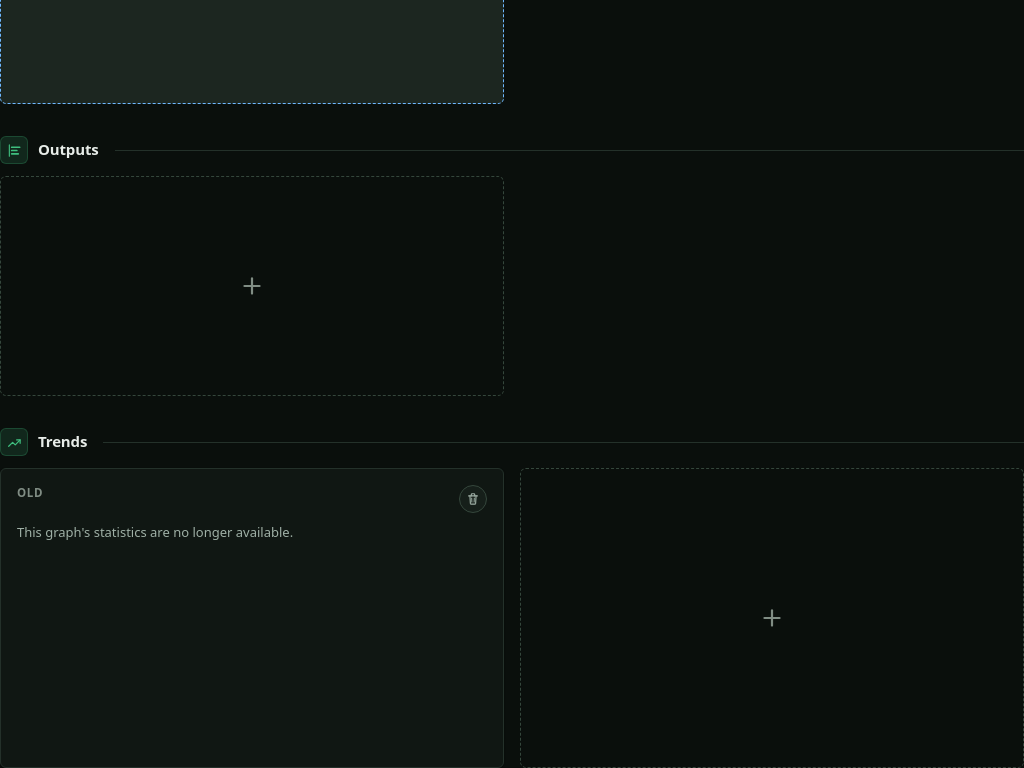
Test case: PlayerComparison › shows a card whose statistic this version doesn't have as unavailable, still removable
(page scrolled)
Check: the text "This graph's statistics are no longer available." is shown, box [17,523,293,541]
Click the button named "Remove graph".
click(473, 499)  # box [459,485,487,513]
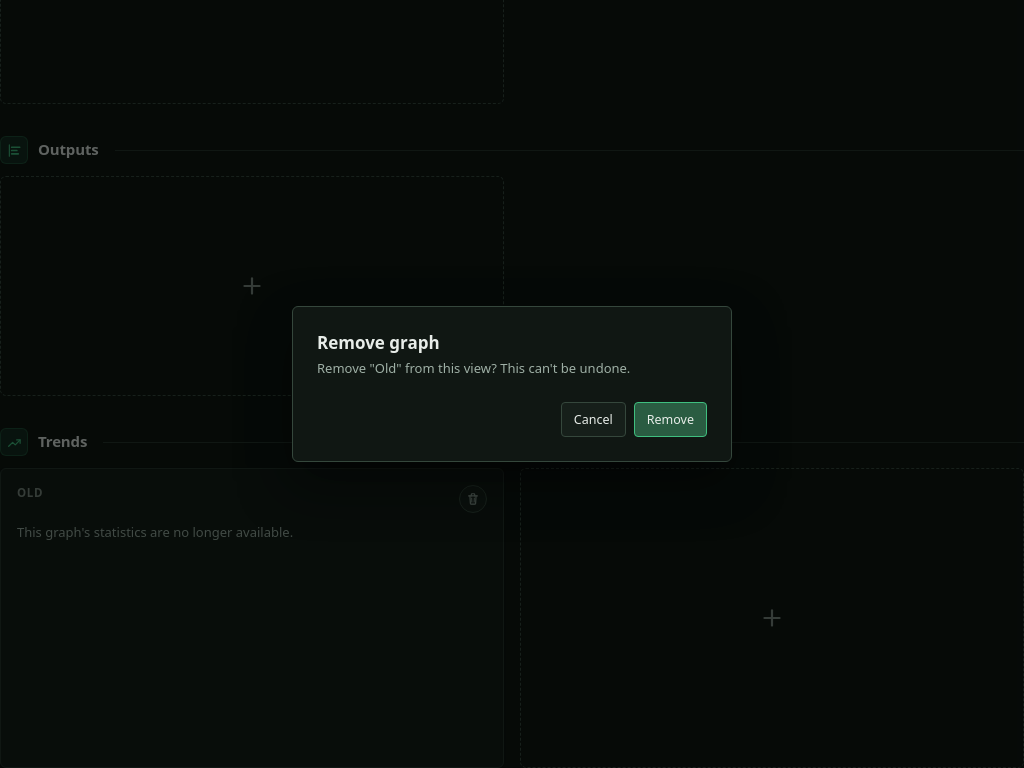
Check: the text "Old" is shown, box [17,485,43,502]
Check: the text "Remove \"Old\" from this view? This can't be undone." is shown, box [317,359,630,377]
Click the button "Remove".
click(670, 420)  # box [634,402,707,437]
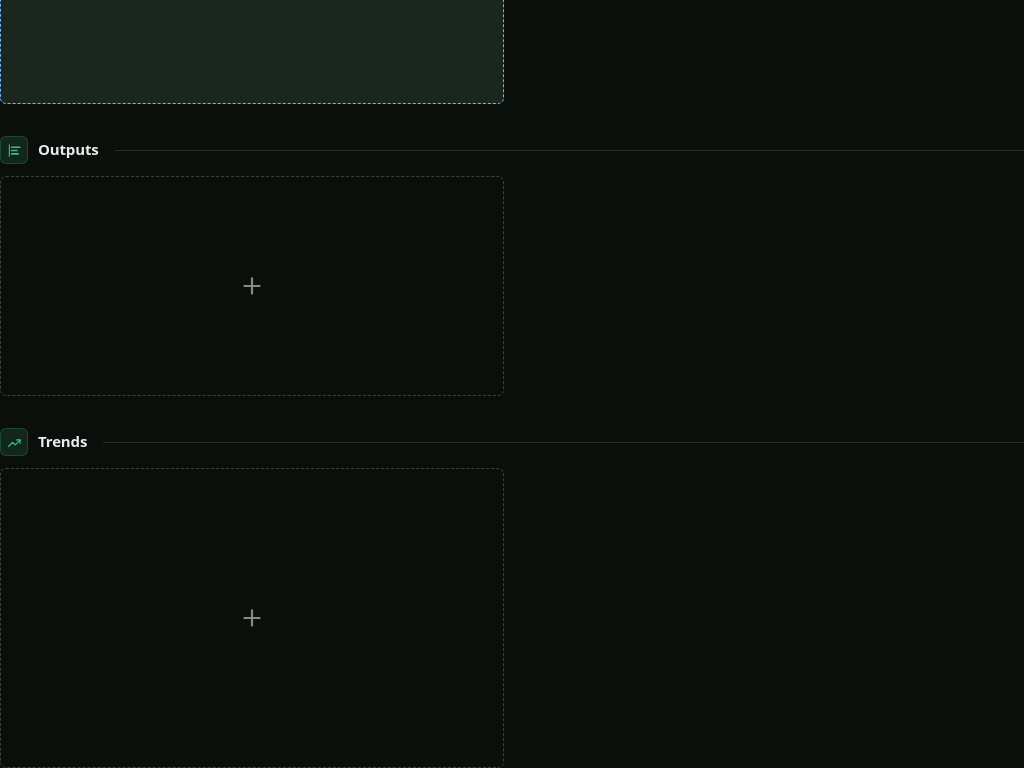
Check: the text "Old" is gone
